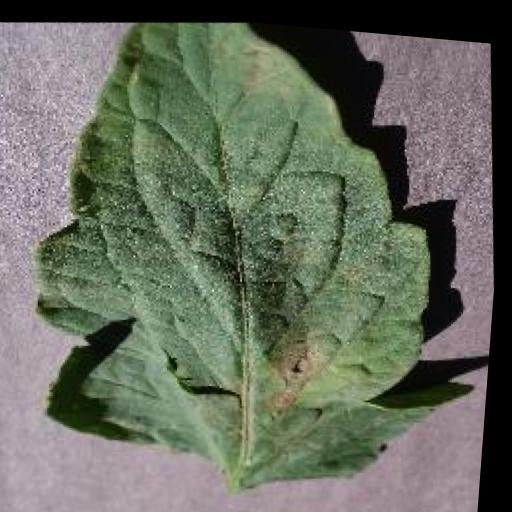Early Blight: (0, 2, 465, 511)
